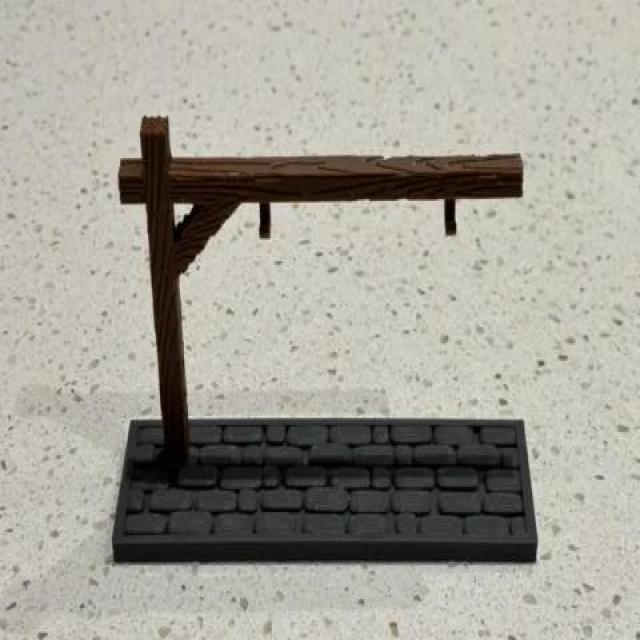Without deffect: (73, 92, 564, 614)
